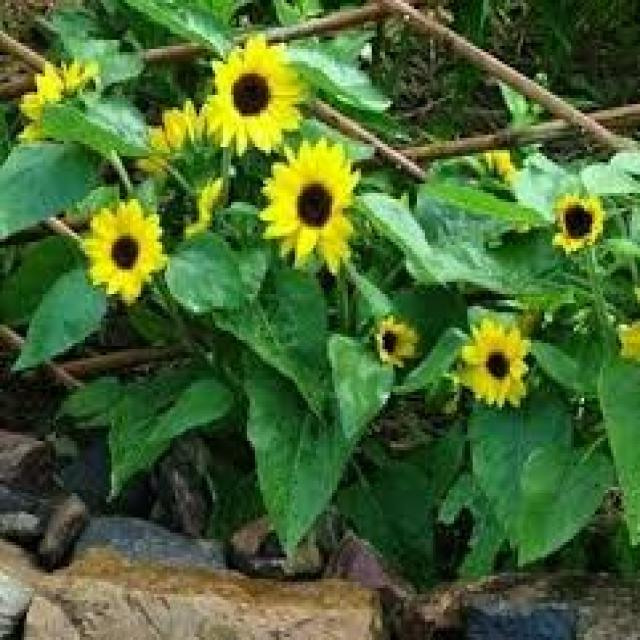sunflower: (197, 25, 318, 159), (254, 134, 361, 278), (82, 195, 175, 306), (453, 314, 539, 415), (15, 55, 105, 150), (131, 99, 221, 175), (474, 126, 533, 240), (548, 189, 608, 264), (184, 173, 232, 254), (368, 307, 418, 371), (615, 313, 640, 381)
